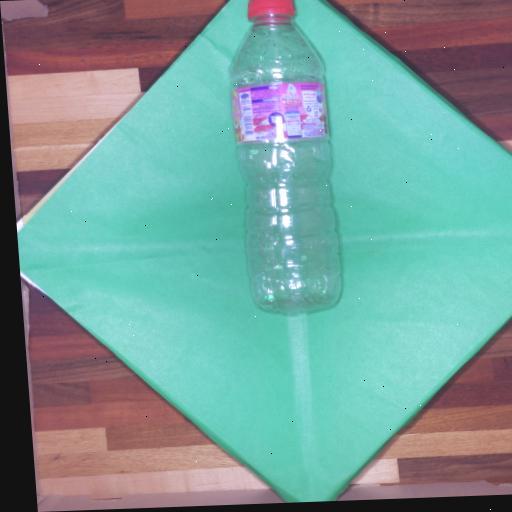bottle: (225, 0, 354, 321)
